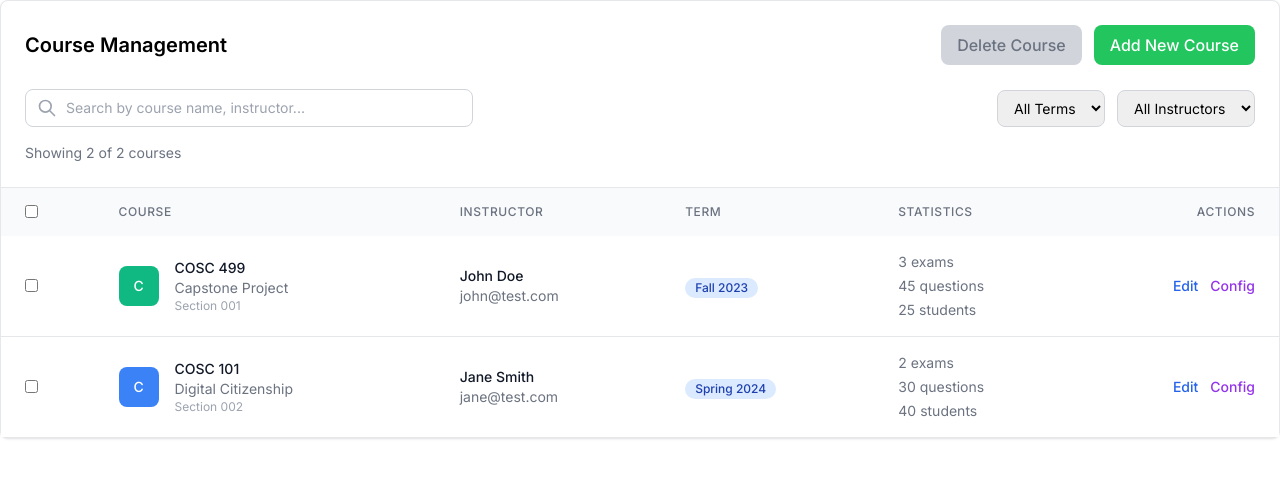
CourseTable › handles instructor filter
The width and height of the screenshot is (1280, 491).
expect the heading "Course Management" is shown: met, box [25,31,227,59]
expect the text "COSC 499" is shown: met, box [174,259,245,276]
Select "teacher-1" in the 2nd dropdown at (1186, 108), box [1117,90,1255,126]
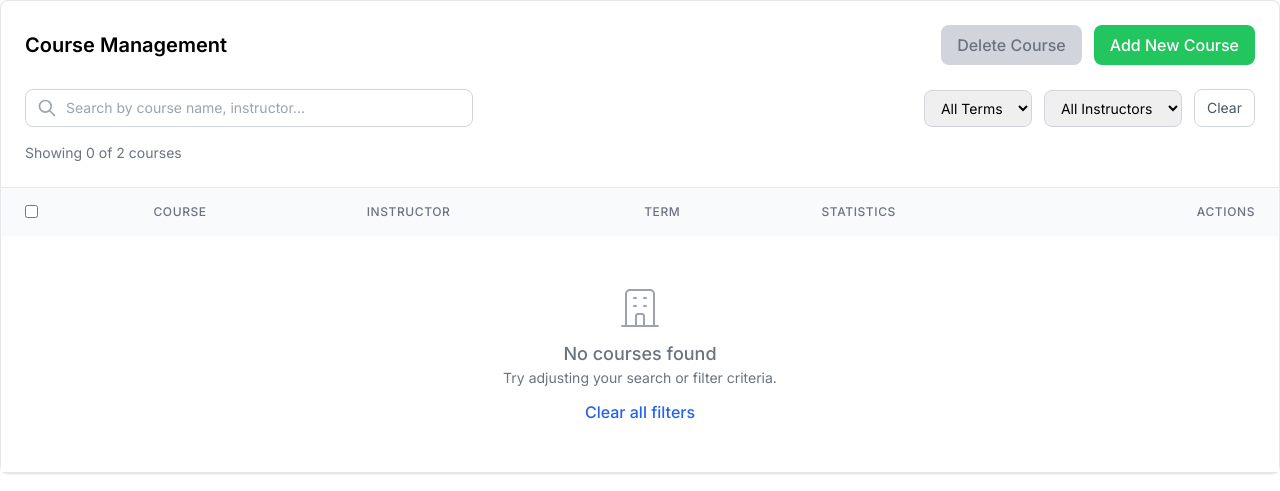
expect the text "No courses found" is shown: met, box [563,343,716,364]
